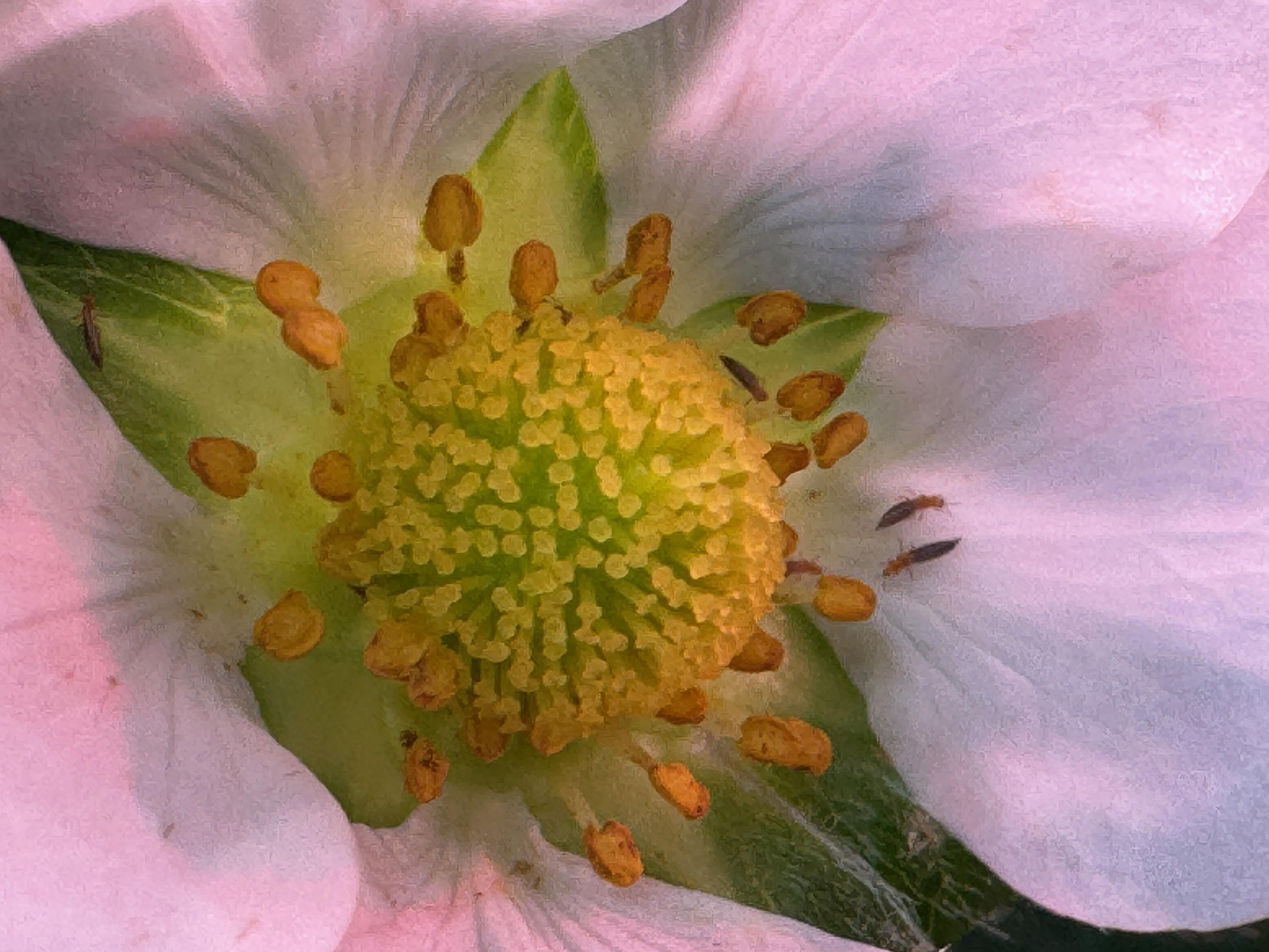tiny_pests: (849, 525, 970, 587), (706, 333, 788, 423), (865, 468, 963, 543)
